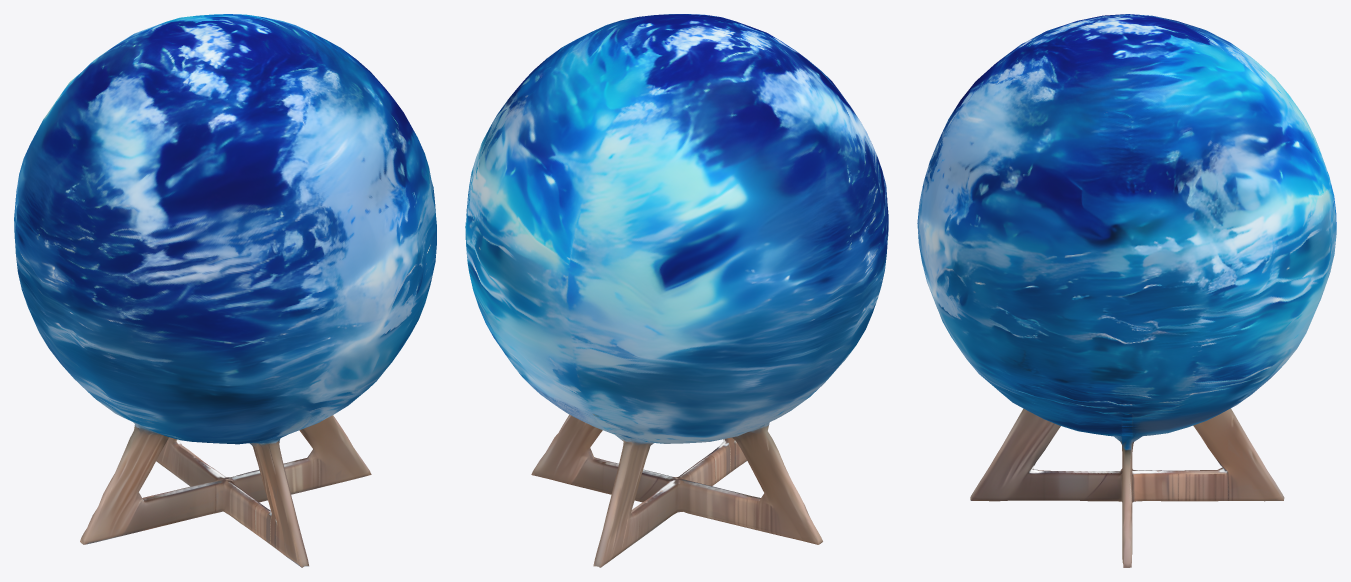
File: kula led2.glb
3 views of the same model, side by side, from view 1: azimuth 30°, elevation 25°; view 2: azimuth 150°, elevation 25°; view 3: azimuth 270°, elevation 25° (orthographic). The views are drawn at different scales.
Parts seen in each view (by area): view 1: model; view 2: model; view 3: model.
Boxes of the visible parts, bbox=[...] form: model: bbox=[14, 14, 436, 567]; model: bbox=[465, 14, 888, 567]; model: bbox=[917, 14, 1336, 567].
Bounding box in the file's own units: 1.54 × 1.9 × 1.54.
1 material, 1 textured.
